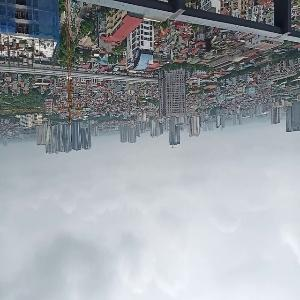drone: (179, 16, 243, 80)
